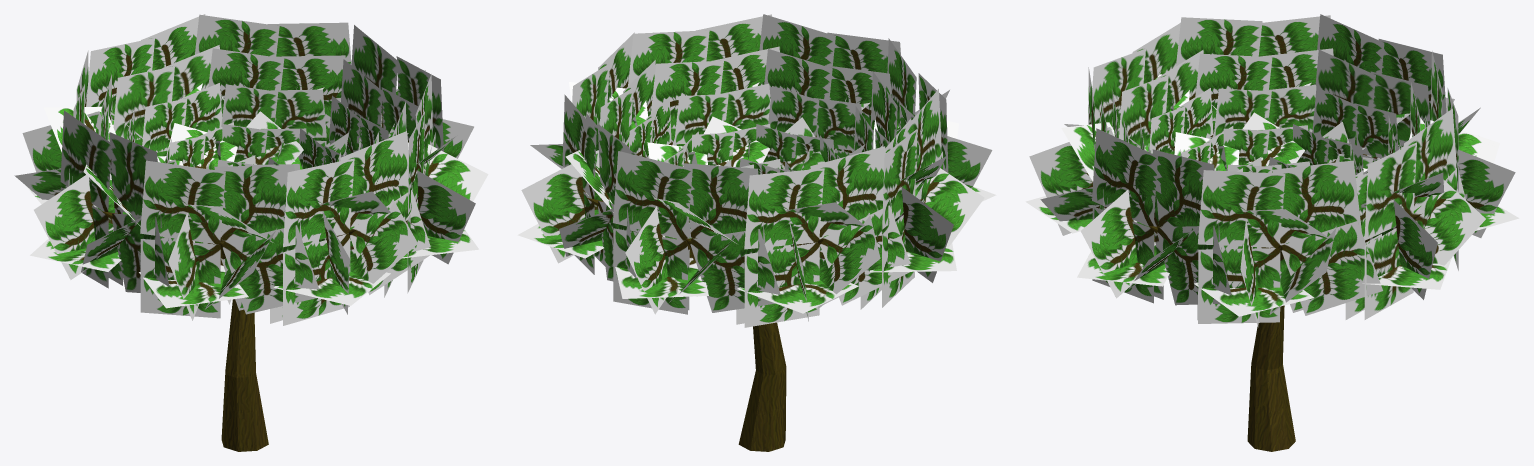
File: treefbx.fbx
The picture shows the model from 3 angles, left to right: view 1: azimuth 30°, elevation 25°; view 2: azimuth 150°, elevation 25°; view 3: azimuth 270°, elevation 25°; orthographic projection.
Visible parts, largest first — view 1: polySurface692, polySurface363; view 2: polySurface692, polySurface363; view 3: polySurface692, polySurface363.
Boxes of the visible parts, x1,y1,x2,y2 form: polySurface692: (14,14,488,325); polySurface363: (221,299,268,451); polySurface692: (517,14,996,327); polySurface363: (738,322,786,451); polySurface692: (1025,14,1519,327); polySurface363: (1247,305,1295,451).
Size of the model in its own units: 605 by 486 by 607.
2 materials, 2 textured.
